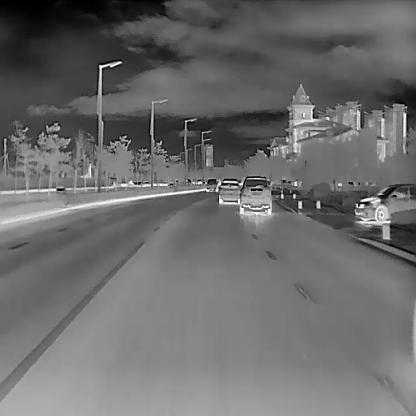car: (354, 183, 416, 222), (239, 173, 272, 215), (218, 177, 240, 203), (204, 177, 219, 191)
